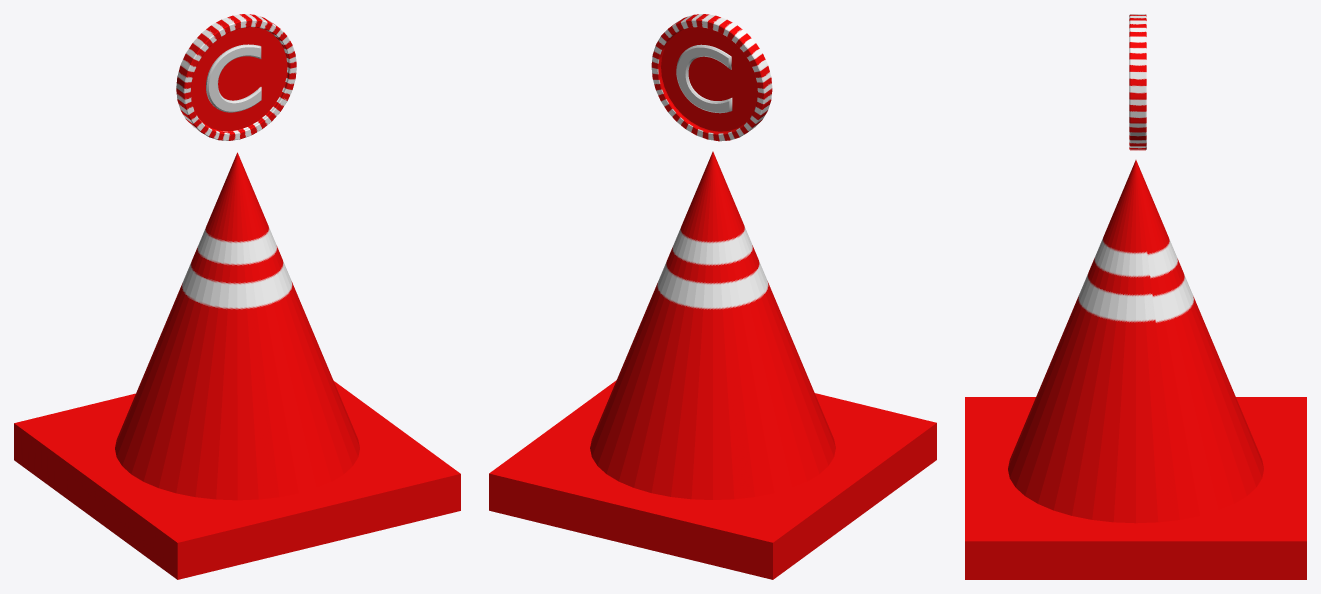
File: cone_with_coin_C.dae
3 renders of one model, left to right at view 1: azimuth 30°, elevation 25°; view 2: azimuth 150°, elevation 25°; view 3: azimuth 270°, elevation 25°, orthographic. The views are drawn at different scales.
Visible parts, largest first — view 1: Sankaku_Cone, Cylinder_001, Text_003; view 2: Sankaku_Cone, Cylinder_001, Text_000; view 3: Sankaku_Cone, Cylinder_001.
Boxes of the visible parts, bbox=[...] form: Sankaku_Cone: bbox=[14, 152, 460, 579]; Cylinder_001: bbox=[176, 14, 296, 140]; Text_003: bbox=[206, 44, 261, 112]; Sankaku_Cone: bbox=[489, 151, 936, 579]; Cylinder_001: bbox=[651, 14, 772, 141]; Text_000: bbox=[676, 44, 732, 113]; Sankaku_Cone: bbox=[965, 160, 1306, 579]; Cylinder_001: bbox=[1129, 14, 1146, 150].
Bounding box in the file's own units: 0.4 × 0.4 × 0.6295.
Materials: 2 (2 with a texture image).
